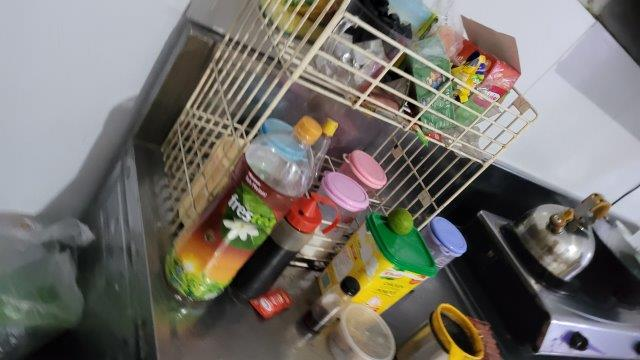botolplastik: (164, 116, 323, 304)
